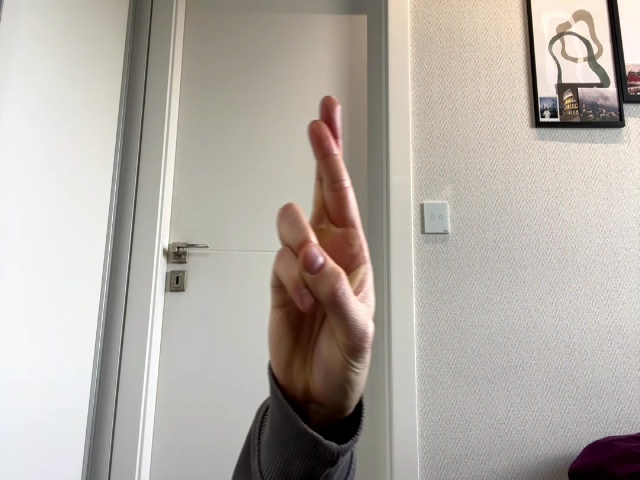R: (270, 96, 376, 414)
